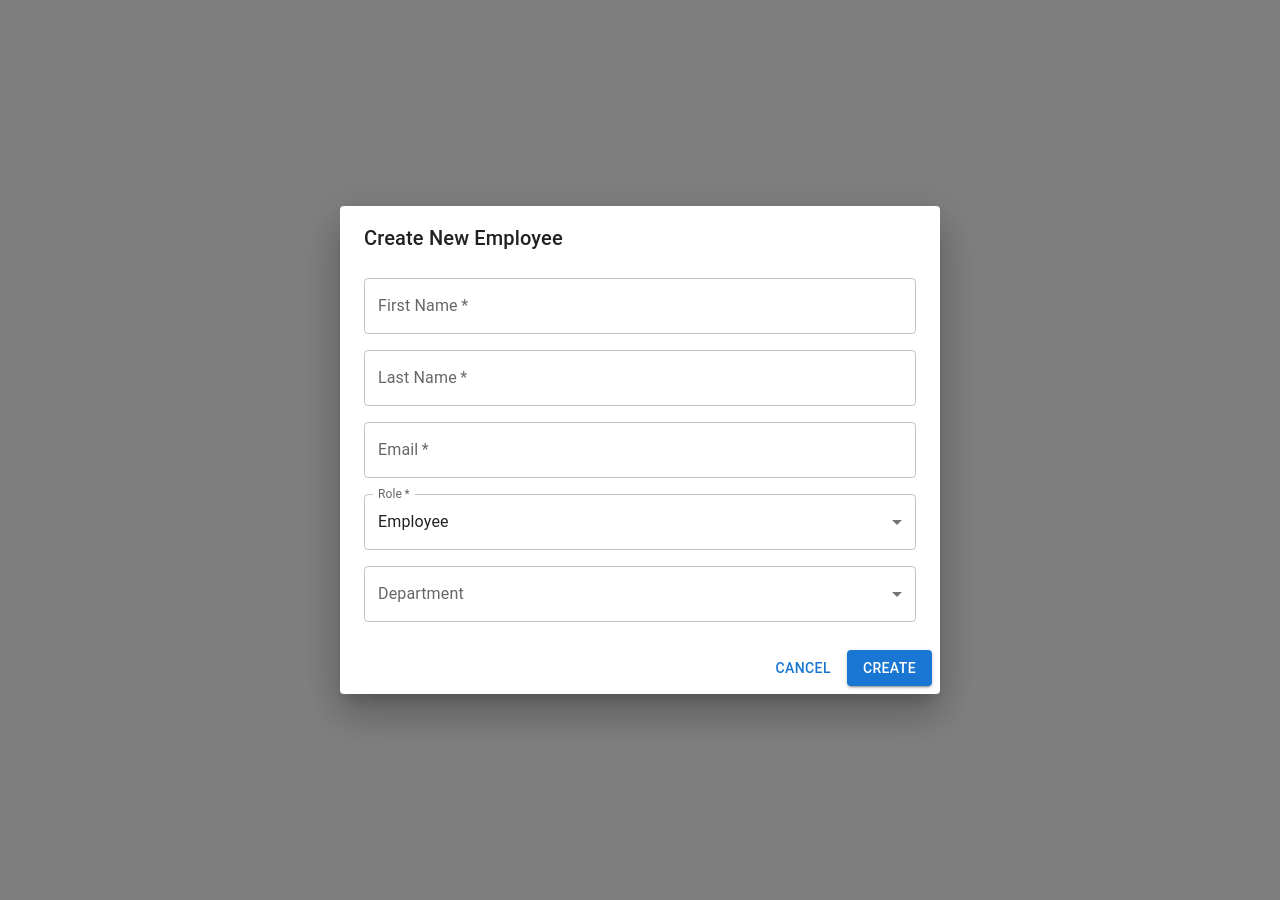
Scenario: CreateEmployeeDialog › shows validation error for an invalid email address
Type "Jane" into the field labelled "First Name *".
click(640, 306); type("Jane")  # box [364,278,916,334]
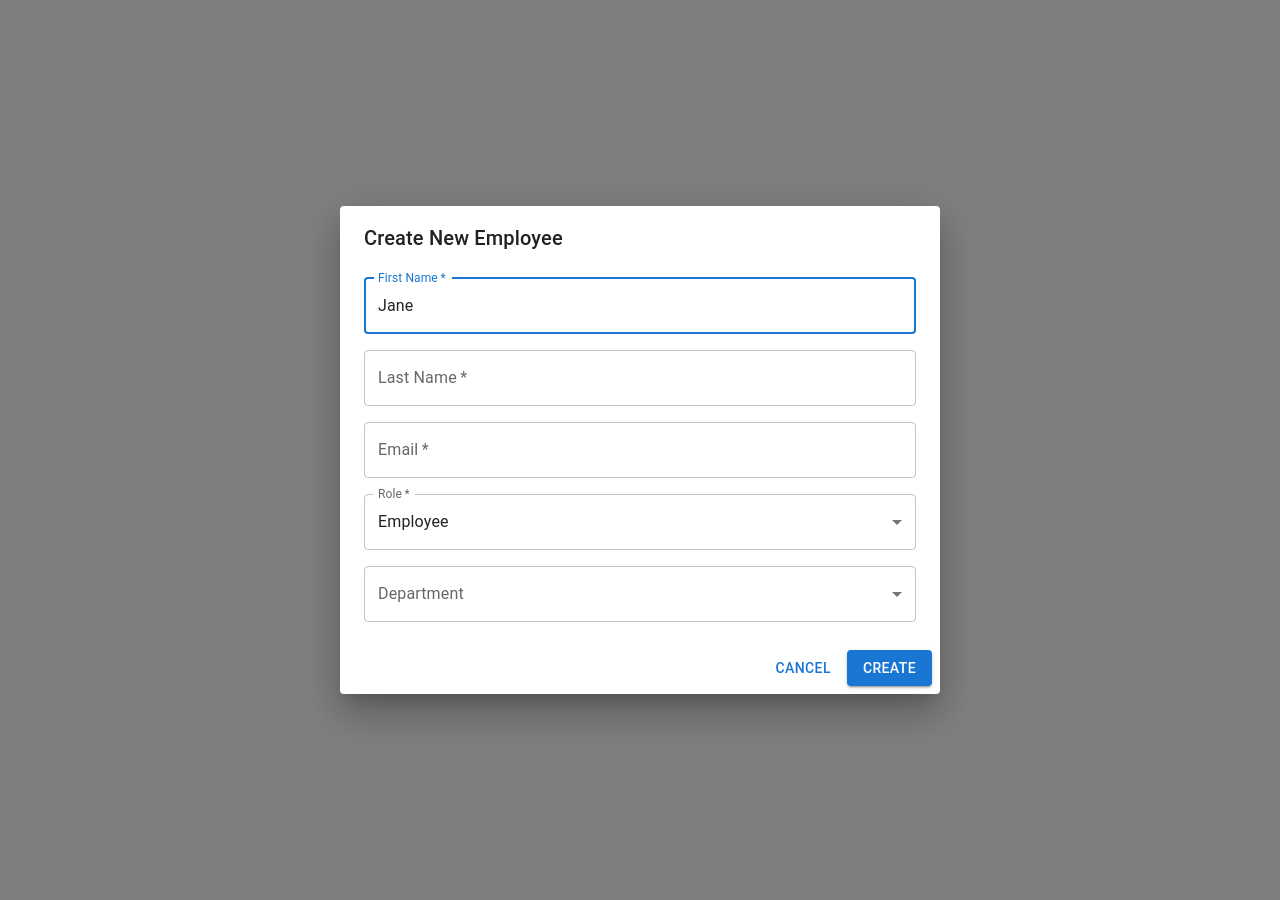
Type "Doe" into the field labelled "Last Name *".
click(640, 378); type("Doe")  # box [364,350,916,406]
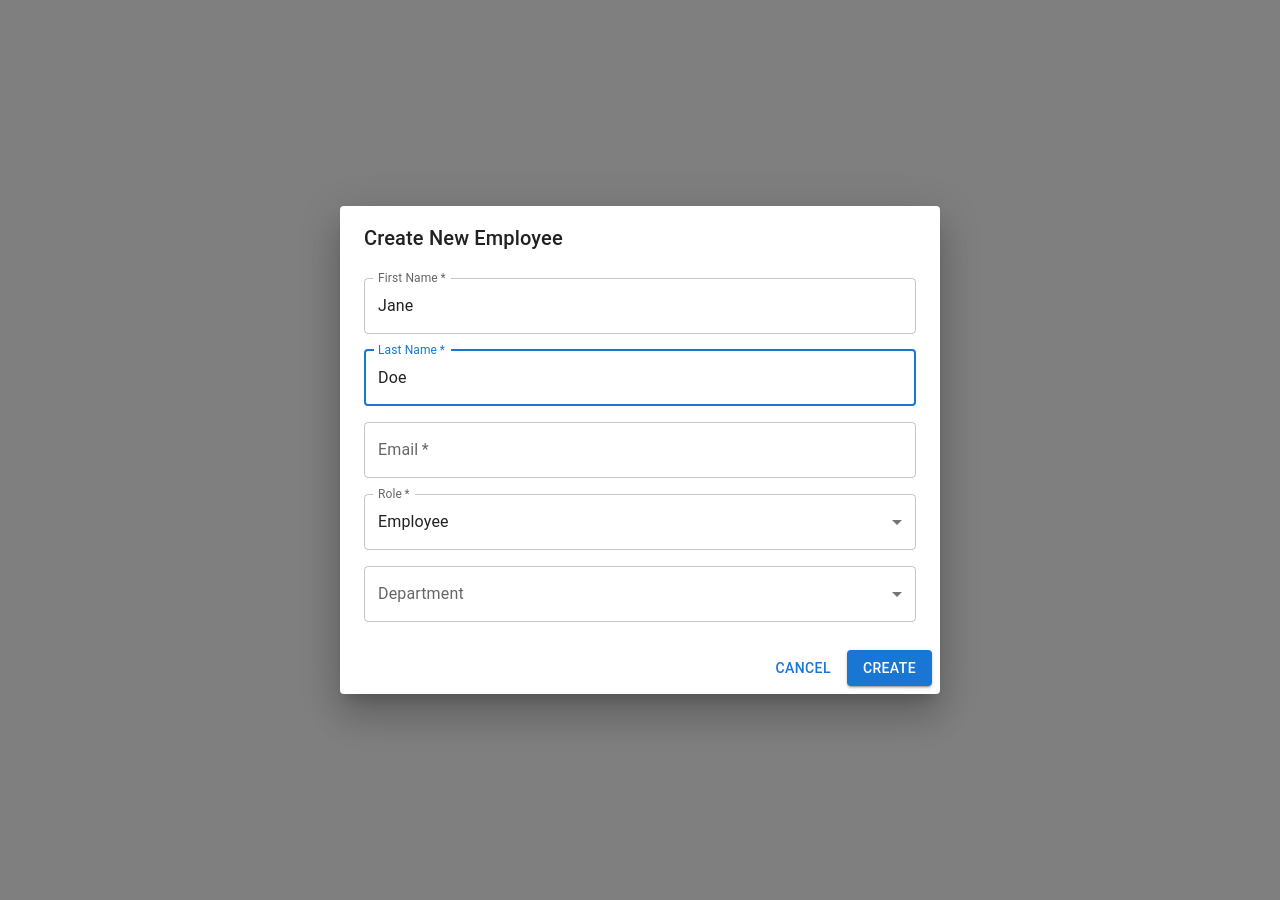
Type "not-an-email" into the field labelled "Email *".
click(640, 450); type("not-an-email")  # box [364,422,916,478]
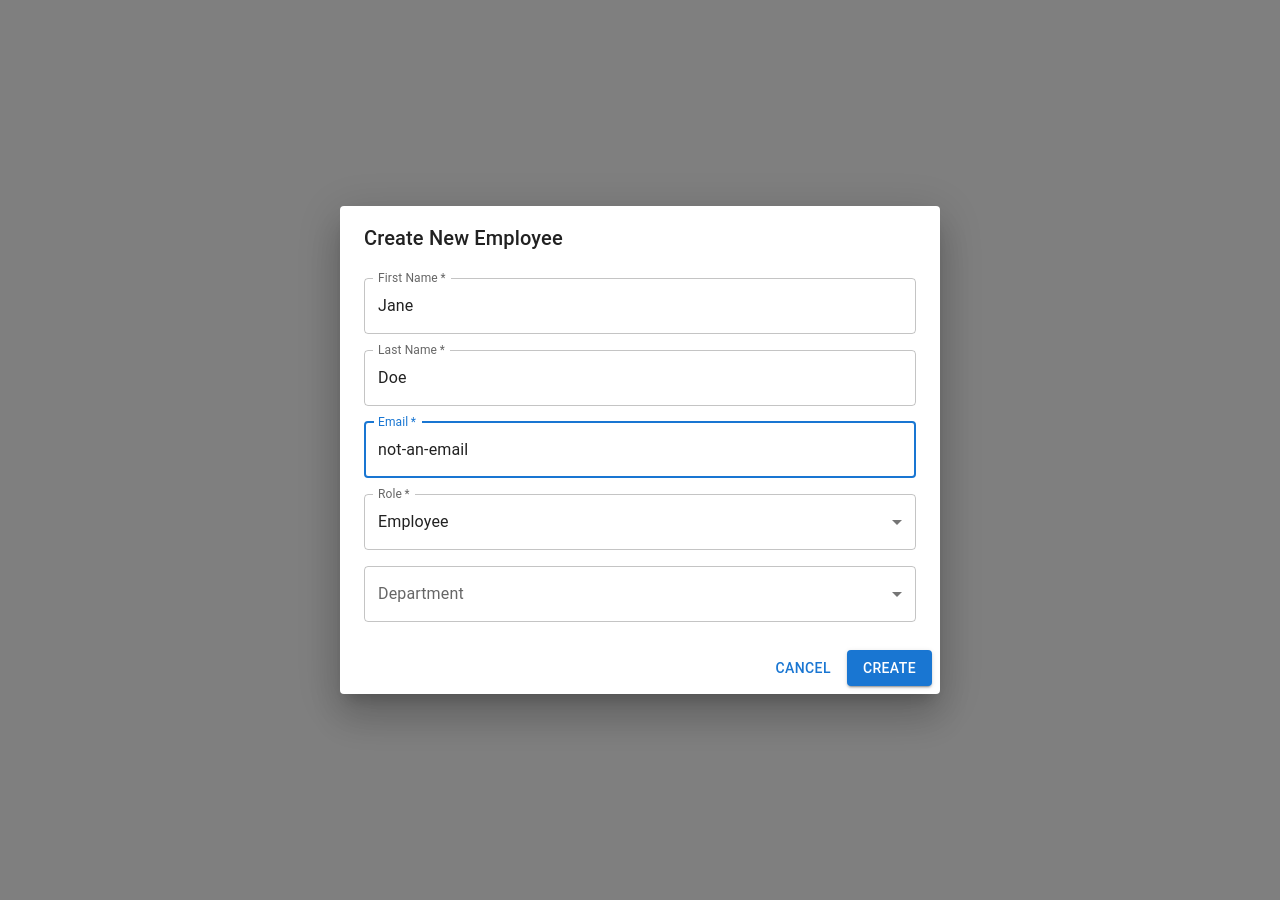
Click the button "Create".
click(889, 668)  # box [847,650,932,686]
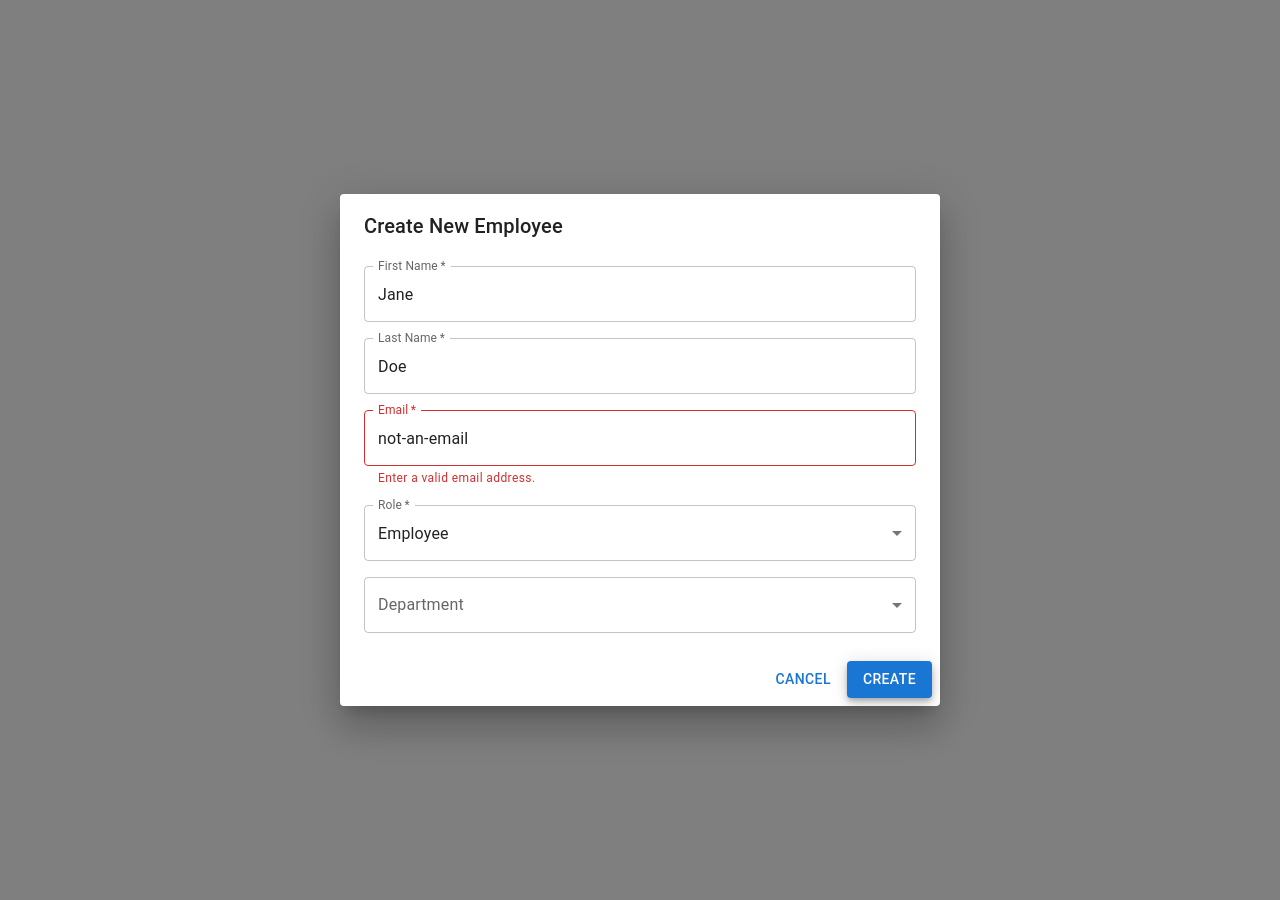
Now the text "Enter a valid email address." is shown, box [378,471,536,485]
